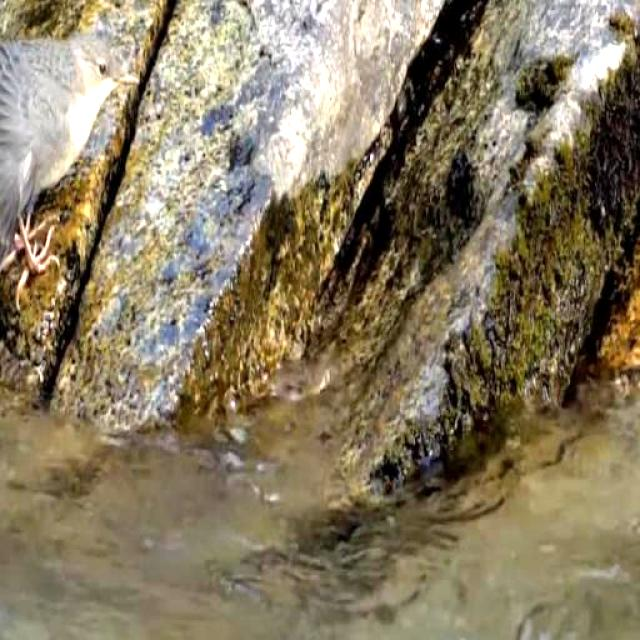airplane: (0, 34, 132, 331)
